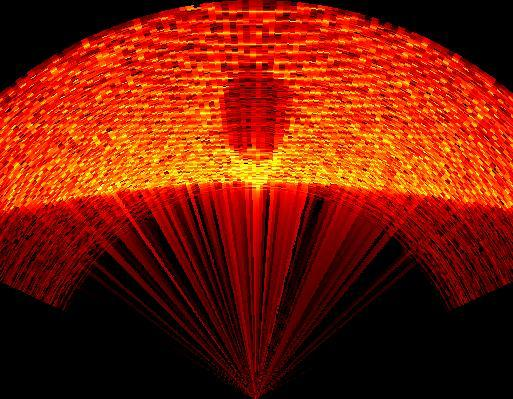box_crate: (221, 57, 301, 183)
